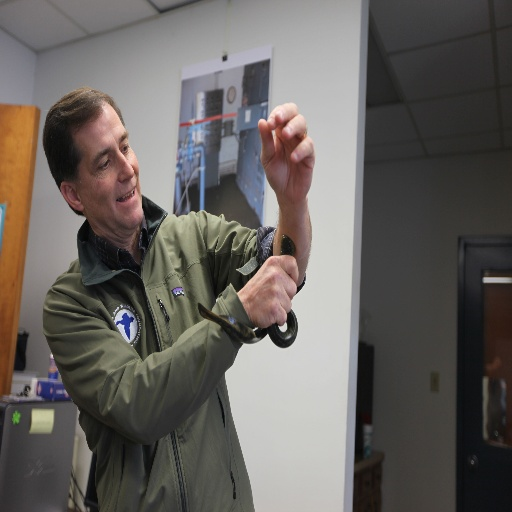hand: (260, 97, 320, 230), (238, 253, 298, 331)
